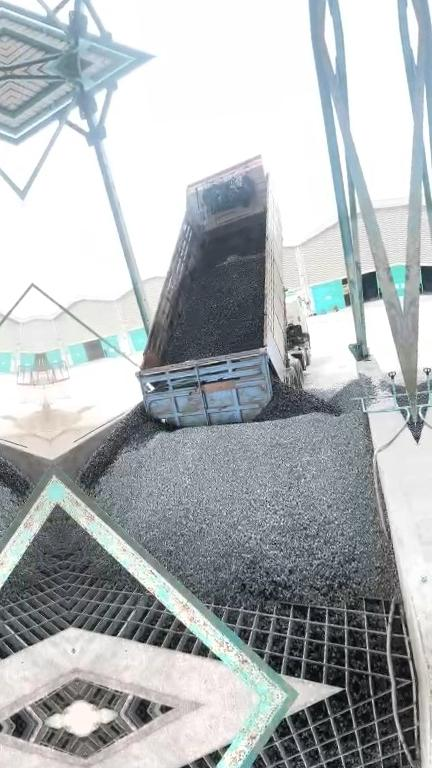gravel: (78, 373, 396, 605), (167, 230, 265, 363), (59, 508, 136, 587)
sand: (47, 400, 115, 457)
